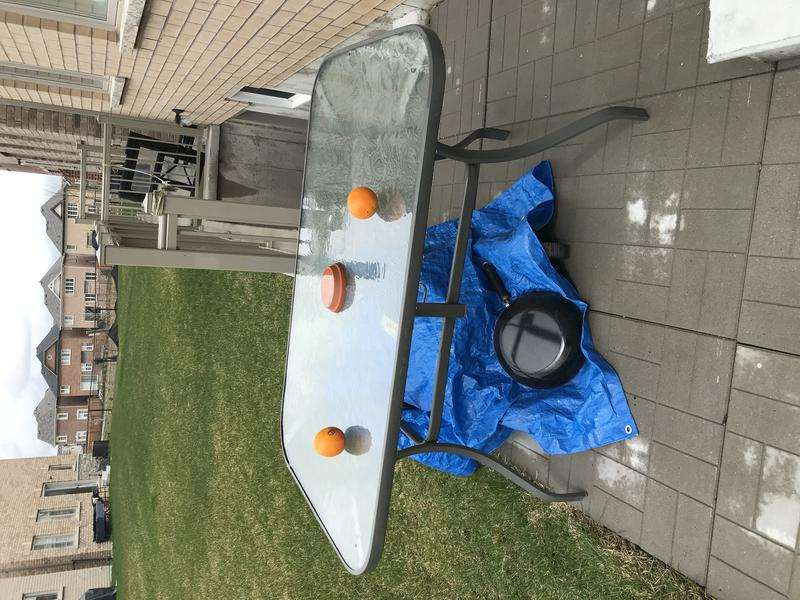orange: (342, 182, 383, 223), (311, 425, 348, 462)
